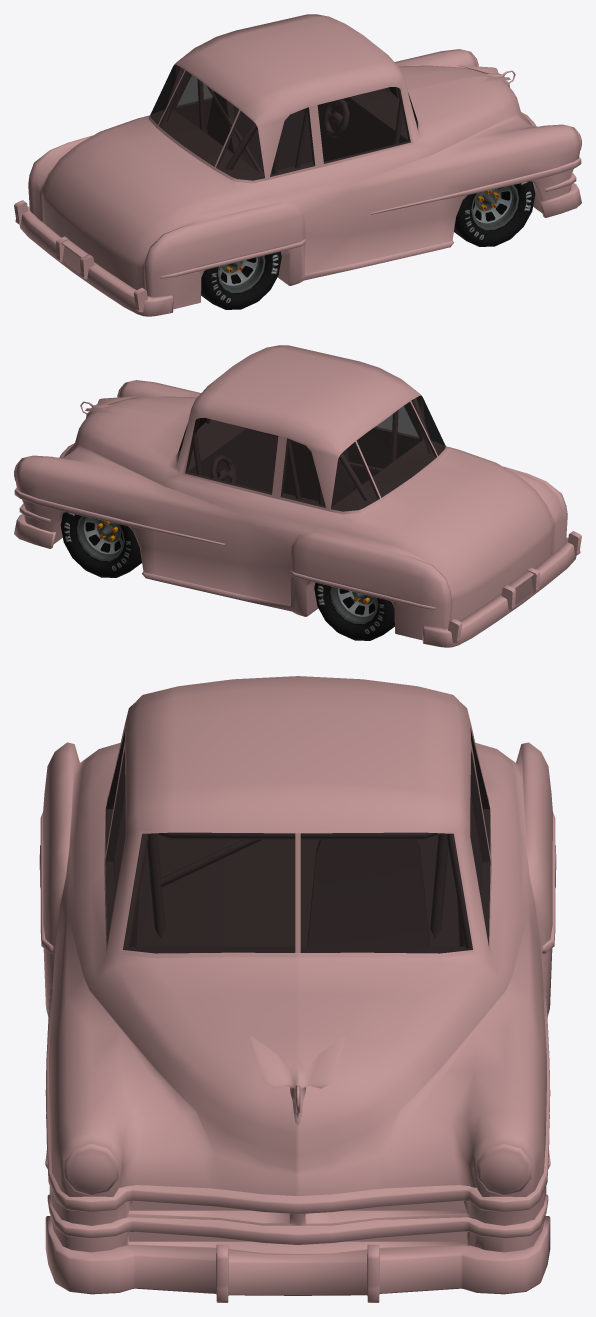
The picture shows the model from 3 angles, top to bottom: view 1: azimuth 30°, elevation 25°; view 2: azimuth 150°, elevation 25°; view 3: azimuth 270°, elevation 25°; orthographic projection. The views are drawn at different scales.
Parts seen in each view (by area): view 1: CarBody, Glass, TireFrontR, TireRearR; view 2: CarBody, Glass, TireFrontL, TireRearL; view 3: CarBody, Glass.
Boxes of the visible parts, x1,y1,x2,y2 form: CarBody: (14, 14, 581, 316); Glass: (150, 64, 417, 180); TireFrontR: (454, 181, 535, 246); TireRearR: (201, 251, 281, 309); CarBody: (14, 345, 581, 647); Glass: (178, 395, 445, 511); TireFrontL: (60, 512, 141, 577); TireRearL: (314, 582, 394, 640); CarBody: (39, 676, 556, 1302); Glass: (105, 728, 490, 953).
Bounding box in the file's own units: 270 × 106 × 130.
